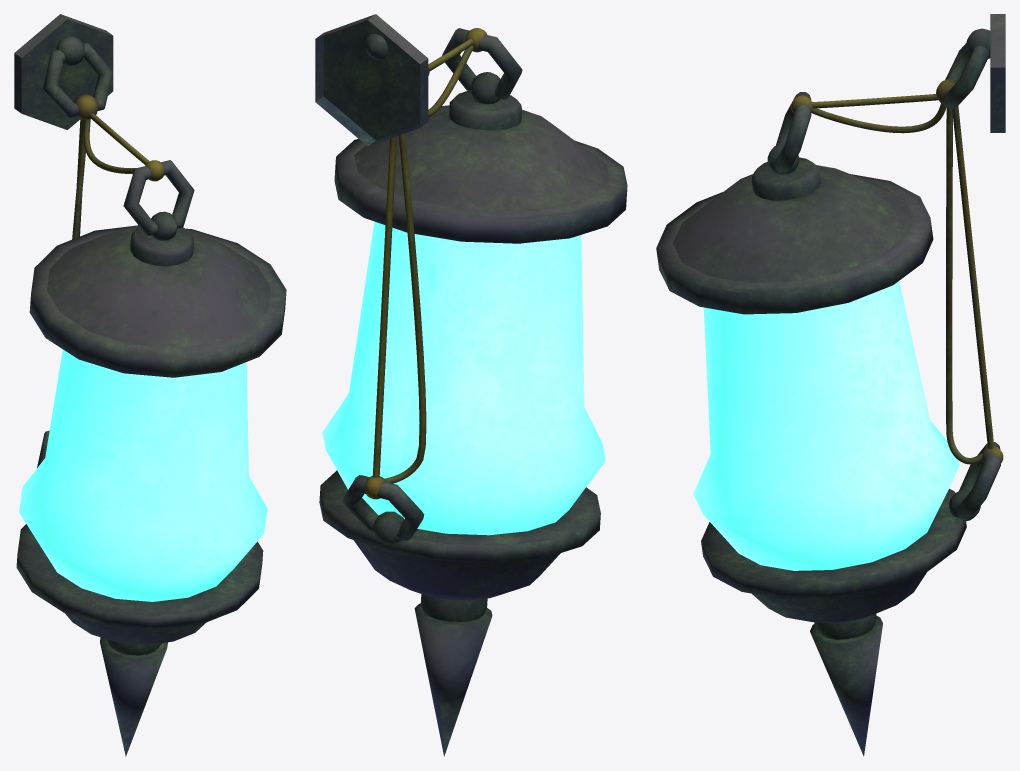
Rendered from LamparaPared.fbx.
The picture shows the model from 3 angles, left to right: view 1: azimuth 30°, elevation 25°; view 2: azimuth 150°, elevation 25°; view 3: azimuth 270°, elevation 25°; orthographic projection. The views are drawn at different scales.
Visible parts, largest first — view 1: Lamp_Hanging.001; view 2: Lamp_Hanging.001; view 3: Lamp_Hanging.001.
Boxes of the visible parts, x1,y1,x2,y2 form: Lamp_Hanging.001: (14, 14, 286, 756); Lamp_Hanging.001: (315, 14, 627, 756); Lamp_Hanging.001: (656, 14, 1005, 756).
Size of the model in its own units: 0.7486 by 2.22 by 0.9469.
